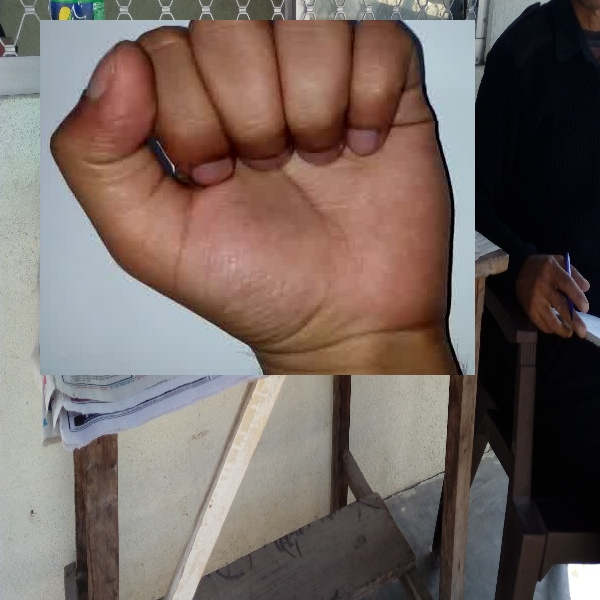A: (40, 20, 475, 375)
